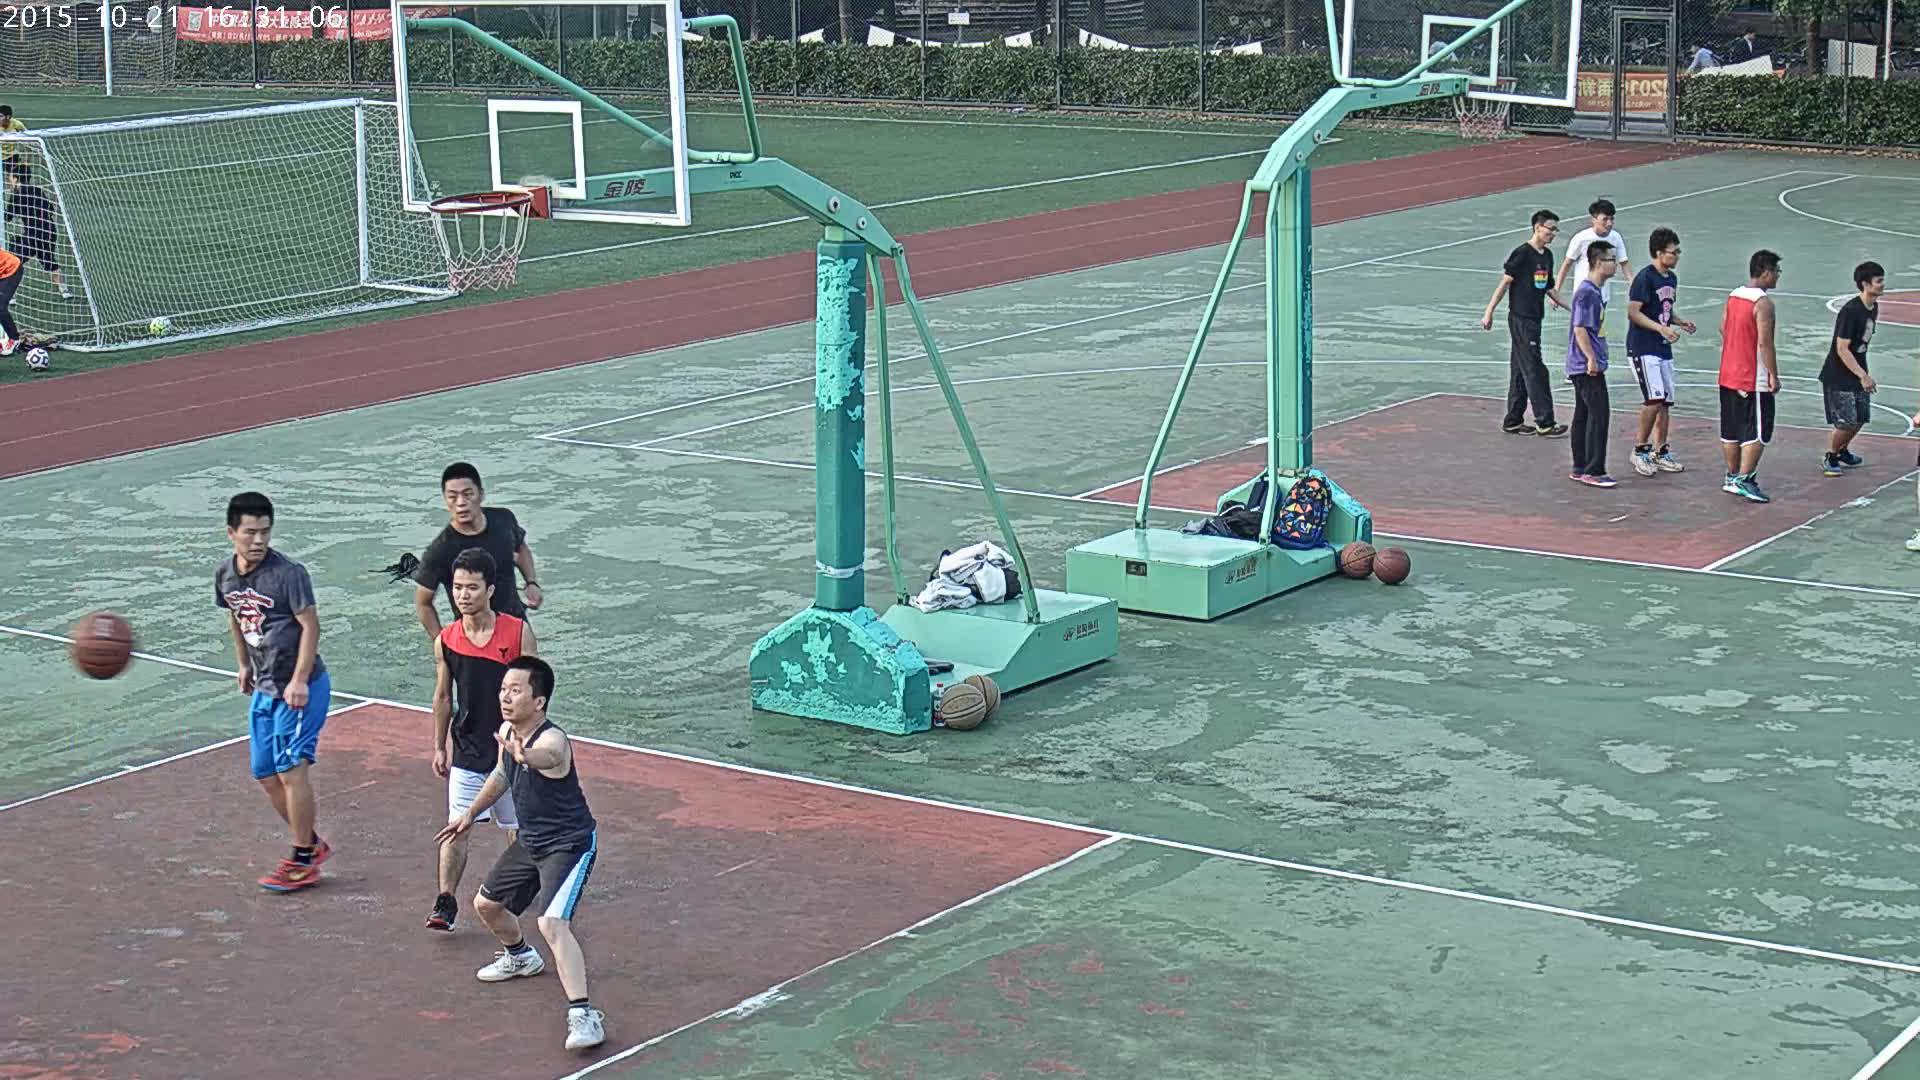person: (431, 656, 606, 1053), (213, 491, 332, 895), (422, 545, 535, 937), (411, 461, 544, 641), (1480, 208, 1571, 437), (1623, 224, 1696, 478), (1718, 247, 1782, 502), (1817, 261, 1886, 476), (1567, 238, 1618, 487), (3, 163, 74, 298), (1549, 199, 1634, 307), (0, 247, 24, 356), (0, 104, 29, 173), (1683, 38, 1723, 76), (1731, 26, 1759, 62), (1428, 33, 1458, 64)
